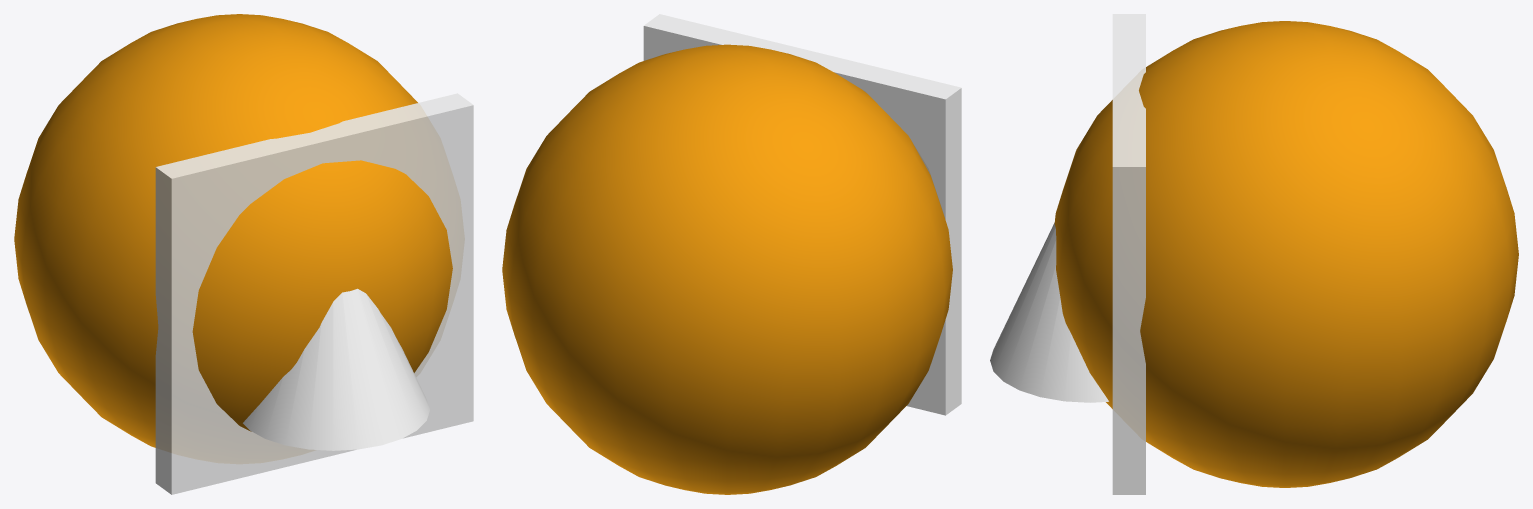
Rendered from gas.glb.
The picture shows the model from 3 angles, left to right: view 1: azimuth 30°, elevation 25°; view 2: azimuth 150°, elevation 25°; view 3: azimuth 270°, elevation 25°; orthographic projection. The views are drawn at different scales.
Parts seen in each view (by area): view 1: gas; view 2: gas; view 3: gas.
Boxes of the visible parts, x1=… form: gas: x1=14, y1=14, x2=473, y2=494; gas: x1=502, y1=14, x2=961, y2=494; gas: x1=990, y1=14, x2=1518, y2=494.
Bounding box in the file's own units: 0.84 × 0.84 × 0.95.
